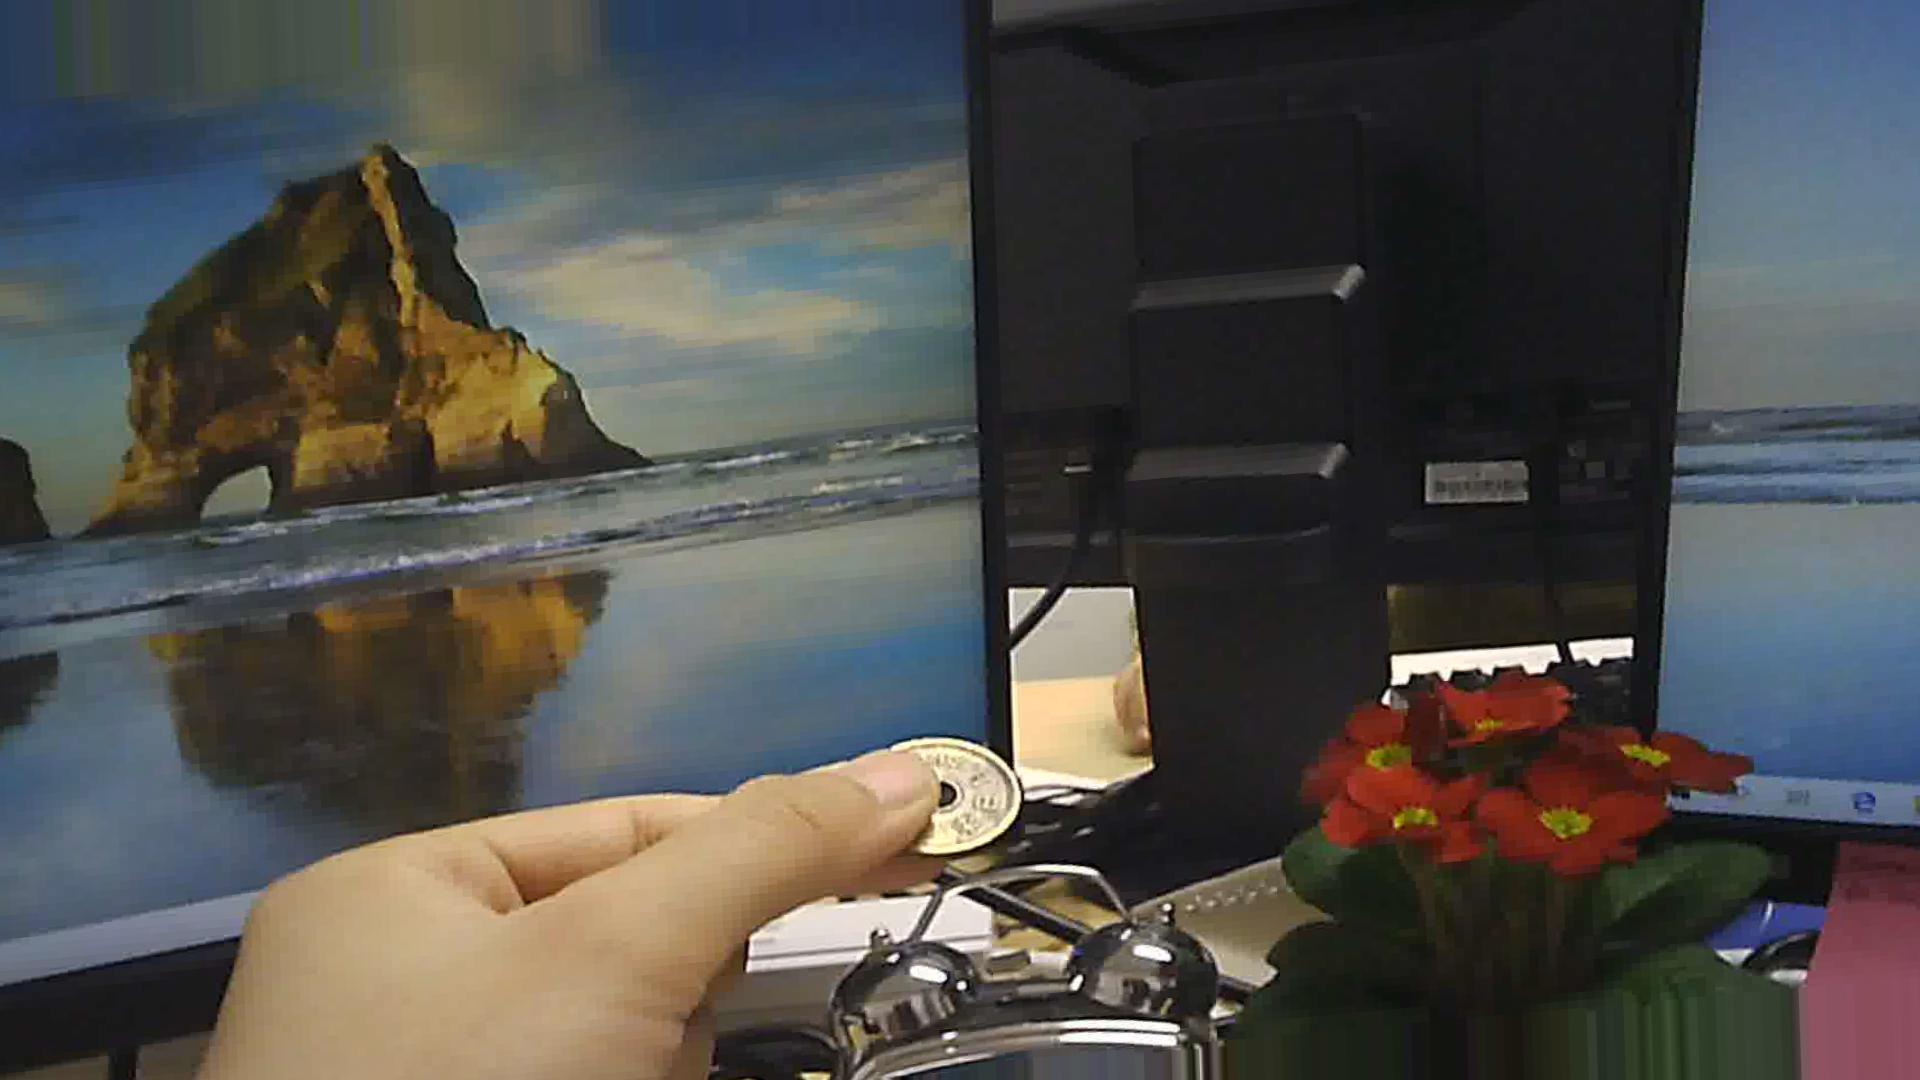5 Yen: (856, 731, 1023, 858)
